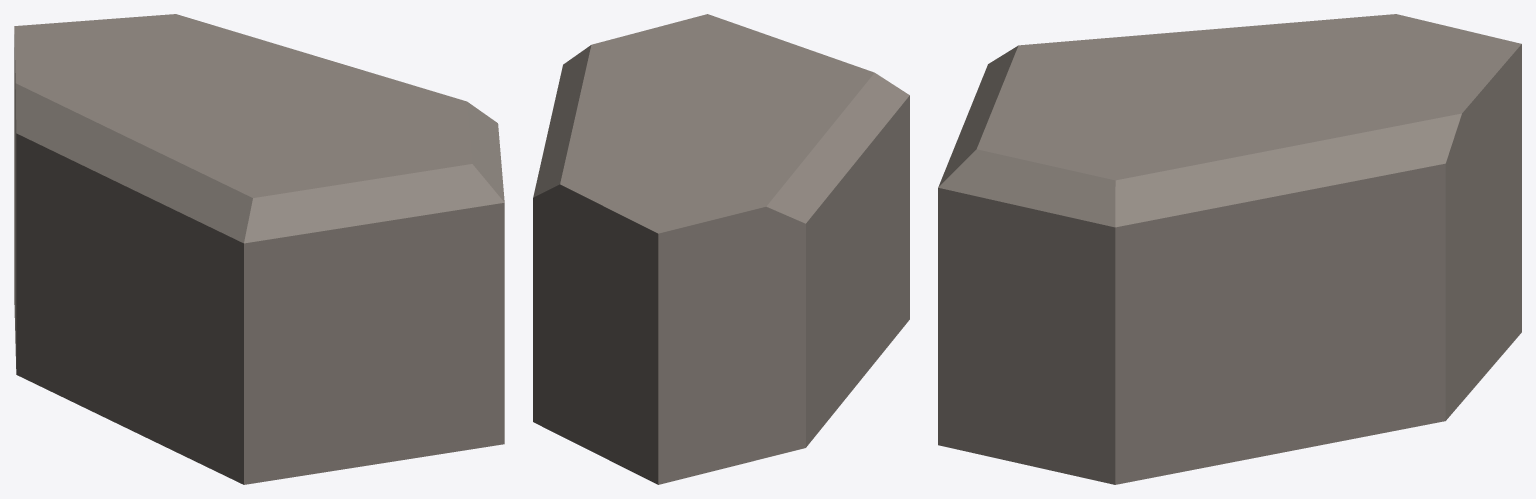
File: flatrock4.fbx
3 views of the same model, side by side, from view 1: azimuth 30°, elevation 25°; view 2: azimuth 150°, elevation 25°; view 3: azimuth 270°, elevation 25° (orthographic). The views are drawn at different scales.
Visible parts, largest first — view 1: FlatRock4; view 2: FlatRock4; view 3: FlatRock4.
Part boxes in pixels (x1=…): FlatRock4: x1=14, y1=14, x2=504, y2=484; FlatRock4: x1=533, y1=14, x2=909, y2=484; FlatRock4: x1=938, y1=14, x2=1521, y2=484.
Size of the model in its own units: 0.5606 by 0.3901 by 0.7152.
